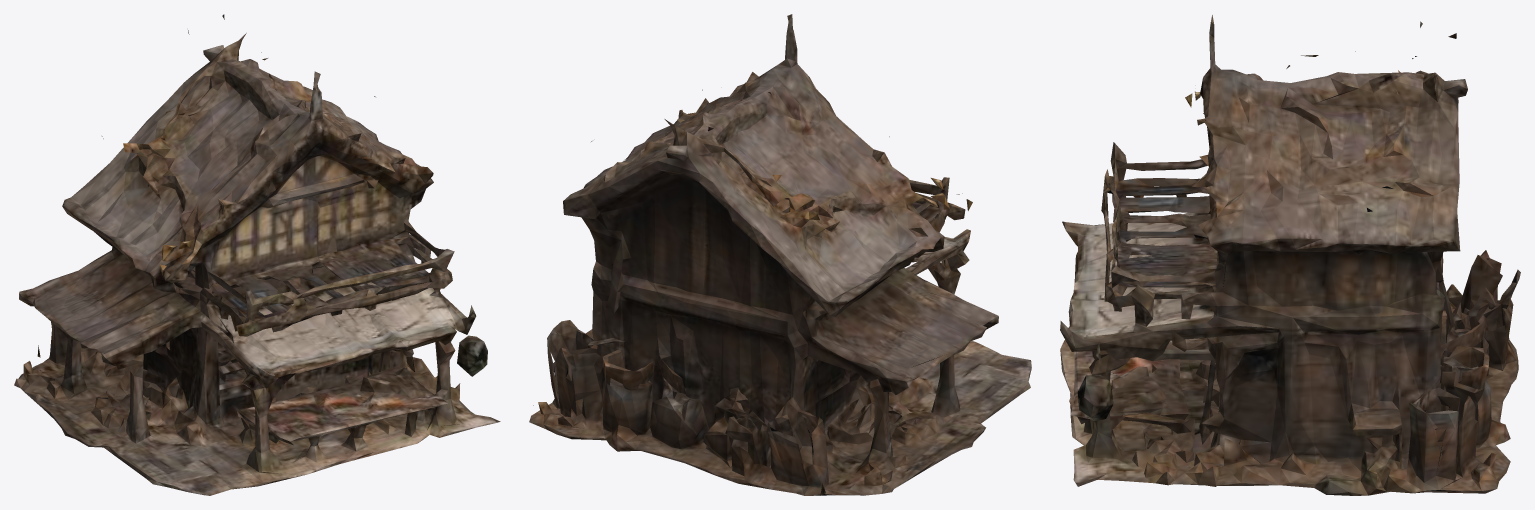
The model's file is hut_mossy_ruined_b_lod0.glb.
3 views of the same model, side by side, from view 1: azimuth 30°, elevation 25°; view 2: azimuth 150°, elevation 25°; view 3: azimuth 270°, elevation 25° (orthographic). The views are drawn at different scales.
Visible parts, largest first — view 1: hut_mossy_ruined_b_lod0; view 2: hut_mossy_ruined_b_lod0; view 3: hut_mossy_ruined_b_lod0.
Boxes of the visible parts, x1,y1,x2,y2 form: hut_mossy_ruined_b_lod0: (14, 14, 500, 495); hut_mossy_ruined_b_lod0: (529, 14, 1031, 495); hut_mossy_ruined_b_lod0: (1060, 15, 1520, 495).
Bounding box in the file's own units: 6.97 × 6.41 × 6.66.
1 material, 1 textured.
